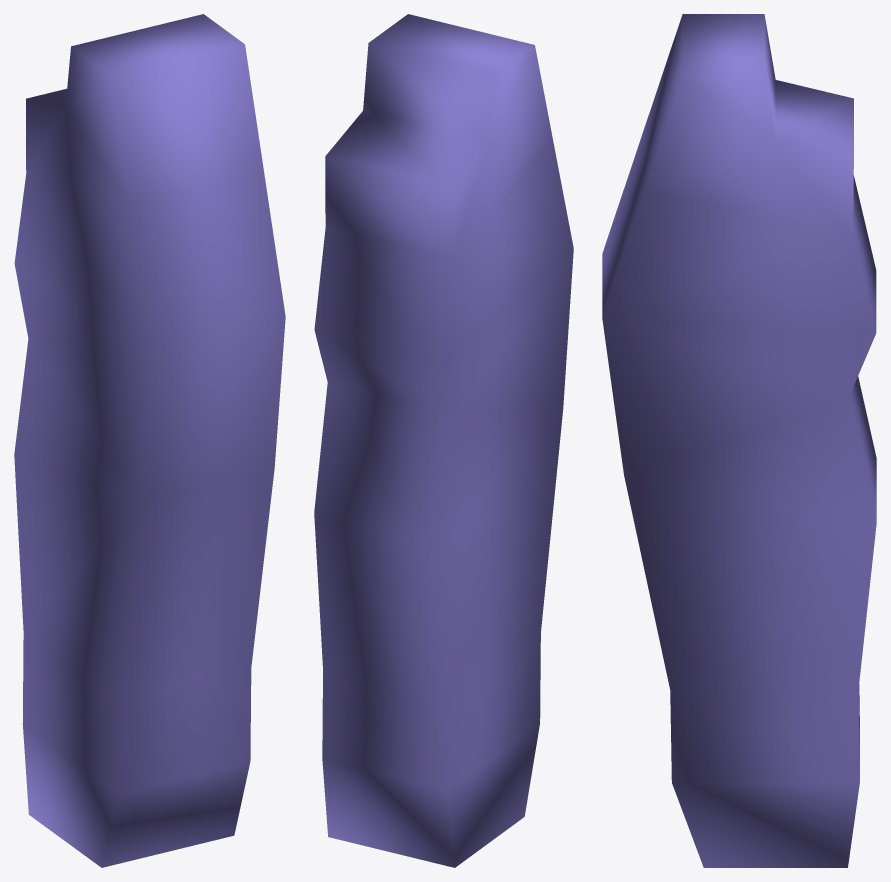
File: Cactus_Tall_03_SPR_COL.fbx
3 renders of one model, left to right at view 1: azimuth 30°, elevation 25°; view 2: azimuth 150°, elevation 25°; view 3: azimuth 270°, elevation 25°, orthographic. The views are drawn at different scales.
Parts seen in each view (by area): view 1: Cactus_Tall_03_SPR_COL; view 2: Cactus_Tall_03_SPR_COL; view 3: Cactus_Tall_03_SPR_COL.
Part boxes in pixels (x1,y1,x2,y2): Cactus_Tall_03_SPR_COL: [14, 14, 285, 867]; Cactus_Tall_03_SPR_COL: [314, 14, 573, 867]; Cactus_Tall_03_SPR_COL: [602, 14, 876, 867].
Size of the model in its own units: 66.62 by 384 by 121.
